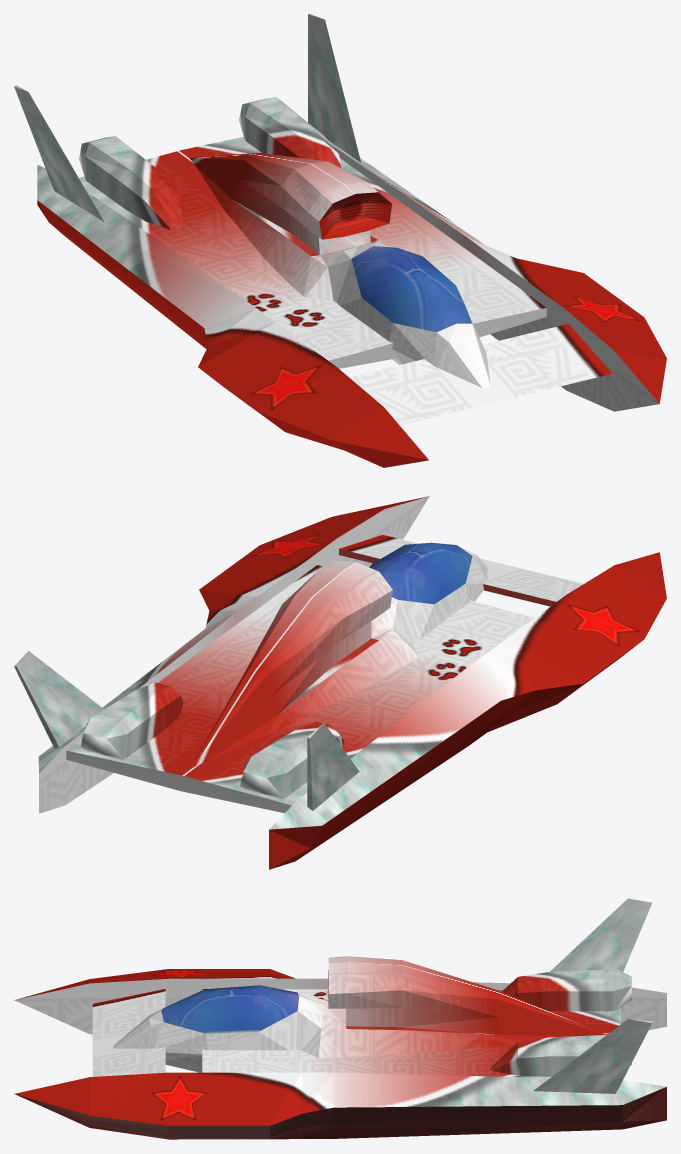
Rendered from Hydroplane.glb.
3 renders of one model, top to bottom at view 1: azimuth 30°, elevation 25°; view 2: azimuth 150°, elevation 25°; view 3: azimuth 270°, elevation 25°, orthographic. The views are drawn at different scales.
Parts seen in each view (by area): view 1: Hull, Cockpit; view 2: Hull, Cockpit, turbo one*; view 3: Hull, Cockpit.
Boxes of the visible parts, left/top/right/bottom form: Hull: left=14, top=14, right=666, bottom=467; Cockpit: left=351, top=246, right=471, bottom=332; Hull: left=14, top=496, right=666, bottom=869; Cockpit: left=369, top=542, right=472, bottom=604; turbo one*: left=80, top=733, right=283, bottom=798; Hull: left=14, top=898, right=666, bottom=1139; Cockpit: left=161, top=985, right=298, bottom=1033.
Bounding box in the file's own units: 3.63 × 1.45 × 6.38.
Materials: 2 (2 with a texture image).
